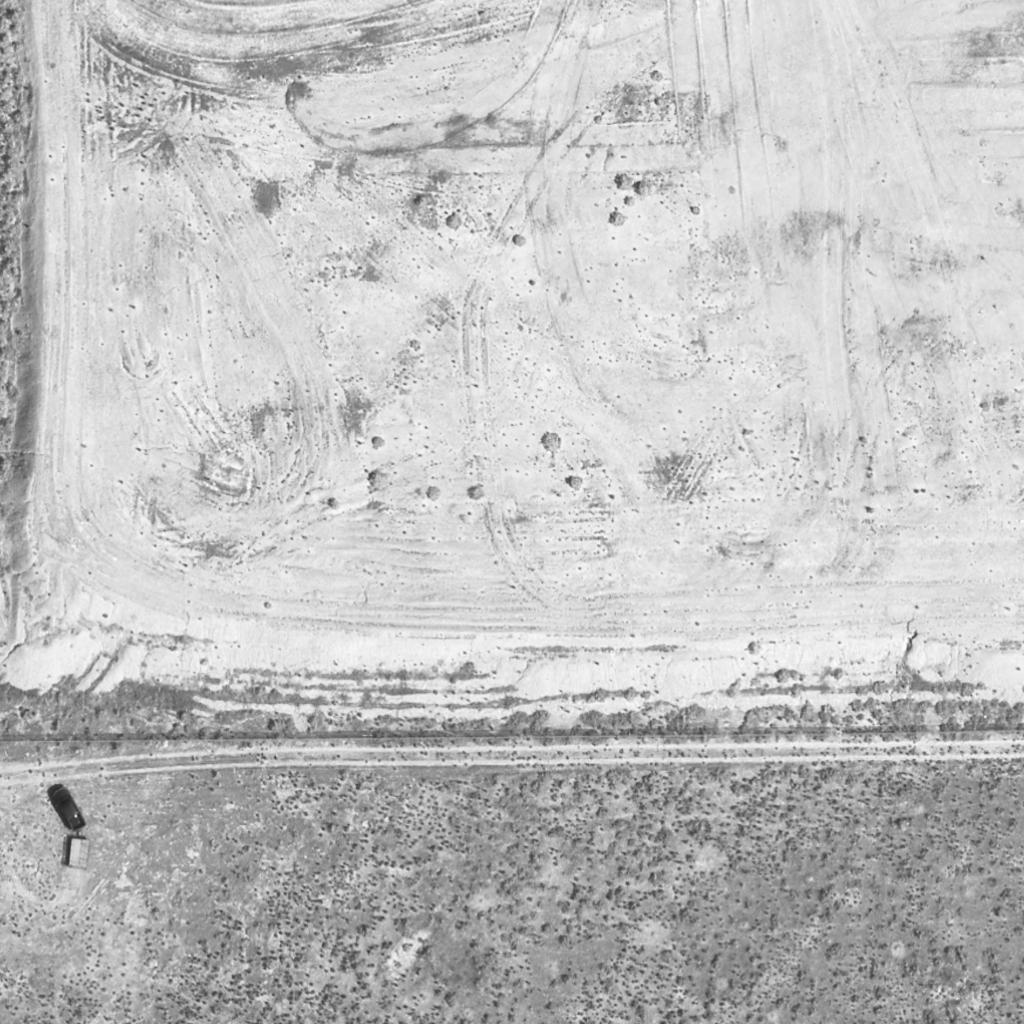vehicle: (48, 787, 90, 833)
